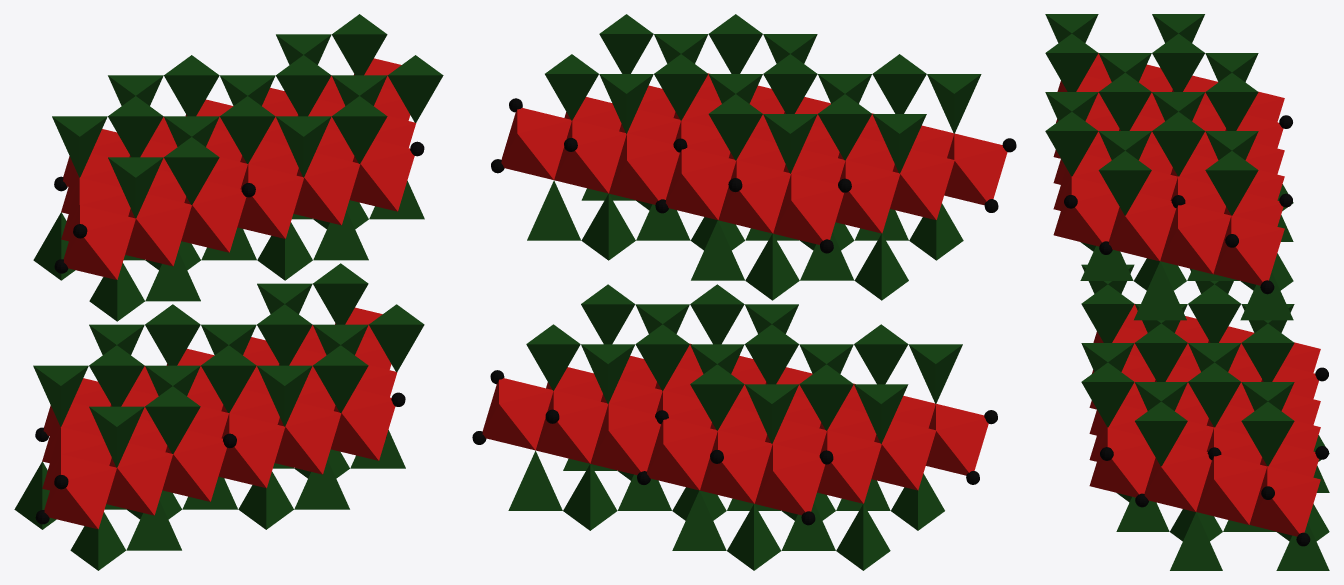
The model's file is Talco.obj.
3 views of the same model, side by side, from view 1: azimuth 30°, elevation 25°; view 2: azimuth 150°, elevation 25°; view 3: azimuth 270°, elevation 25° (orthographic). The views are drawn at different scales.
Parts seen in each view (by area): view 1: Folha_Brucita_cima.001_Solid.613, Folha_Brucita_baixo.001_Solid.610, Folha_tetraedrica_Br_topo.001_Solid.612, Folha_tetraedrica_Br_topo_cima.001_Solid.615, Folha_tetraedrica_Br_base_cima.001_Solid.614, Folha_tetraedrica_Br_base.001_Solid.611; view 2: Folha_Brucita_baixo.001_Solid.610, Folha_Brucita_cima.001_Solid.613, Folha_tetraedrica_Br_topo.001_Solid.612, Folha_tetraedrica_Br_topo_cima.001_Solid.615, Folha_tetraedrica_Br_base_cima.001_Solid.614, Folha_tetraedrica_Br_base.001_Solid.611, Folha_hidroxila1_cima.001_Sphere.019, Folha_hidroxila1_baixo.001_Sphere.015; view 3: Folha_Brucita_cima.001_Solid.613, Folha_Brucita_baixo.001_Solid.610, Folha_tetraedrica_Br_topo_cima.001_Solid.615, Folha_tetraedrica_Br_topo.001_Solid.612, Folha_tetraedrica_Br_base_cima.001_Solid.614, Folha_tetraedrica_Br_base.001_Solid.611, Folha_hidroxila1_cima.001_Sphere.019, Folha_hidroxila1_baixo.001_Sphere.015.
Boxes of the visible parts, x1,y1,x2,y2 form: Folha_Brucita_cima.001_Solid.613: (61,58,416,279); Folha_Brucita_baixo.001_Solid.610: (42,307,397,529); Folha_tetraedrica_Br_topo.001_Solid.612: (33,263,424,467); Folha_tetraedrica_Br_topo_cima.001_Solid.615: (52,14,443,218); Folha_tetraedrica_Br_base_cima.001_Solid.614: (33,180,424,321); Folha_tetraedrica_Br_base.001_Solid.611: (14,430,405,570); Folha_Brucita_baixo.001_Solid.610: (482,343,988,515); Folha_Brucita_cima.001_Solid.613: (501,73,1007,244); Folha_tetraedrica_Br_topo.001_Solid.612: (526,284,962,443); Folha_tetraedrica_Br_topo_cima.001_Solid.615: (545,14,981,173); Folha_tetraedrica_Br_base_cima.001_Solid.614: (527,180,963,300); Folha_tetraedrica_Br_base.001_Solid.611: (508,450,944,570); Folha_hidroxila1_cima.001_Sphere.019: (509,98,1016,192); Folha_hidroxila1_baixo.001_Sphere.015: (490,370,997,464); Folha_Brucita_cima.001_Solid.613: (1053,53,1284,285); Folha_Brucita_baixo.001_Solid.610: (1089,304,1320,536); Folha_tetraedrica_Br_topo_cima.001_Solid.615: (1045,14,1258,215); Folha_tetraedrica_Br_topo.001_Solid.612: (1081,264,1294,466); Folha_tetraedrica_Br_base_cima.001_Solid.614: (1080,184,1293,320); Folha_tetraedrica_Br_base.001_Solid.611: (1116,435,1329,570); Folha_hidroxila1_cima.001_Sphere.019: (1064,115,1292,247); Folha_hidroxila1_baixo.001_Sphere.015: (1100,367,1328,499).
Size of the model in its own units: 1.09 by 1.01 by 0.6513.
